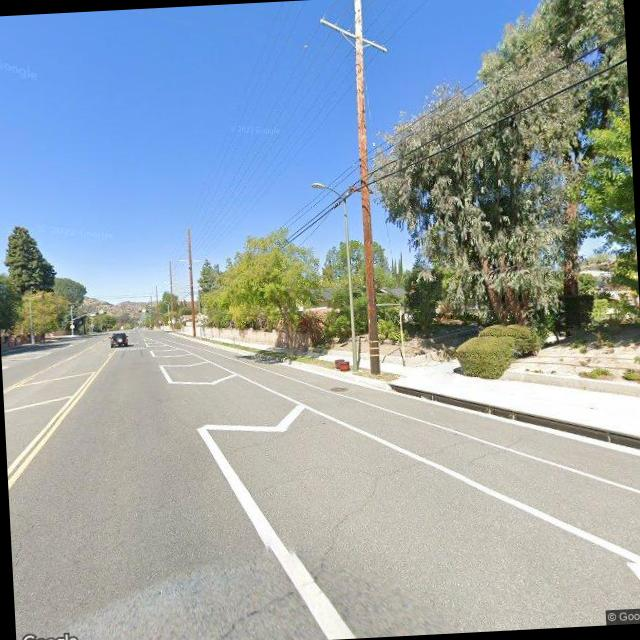pothole: (202, 435, 493, 640), (469, 430, 550, 474)
